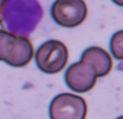L: (0, 0, 45, 39)
